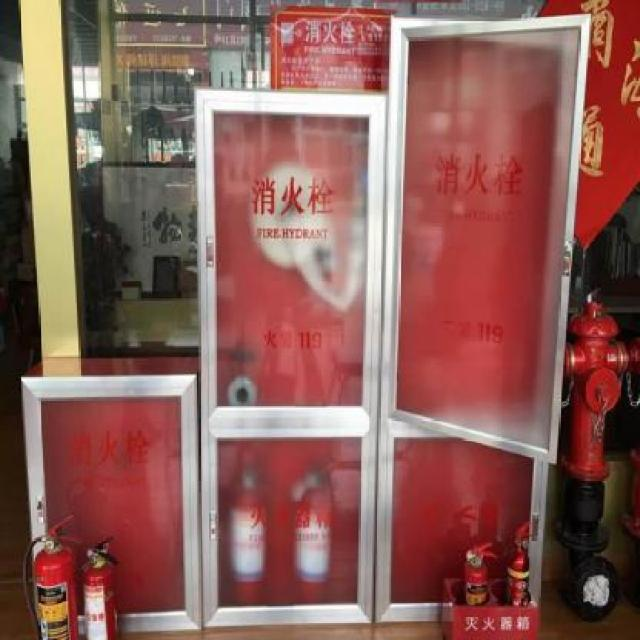firehydrant: (374, 12, 594, 640), (192, 83, 386, 630), (19, 352, 203, 638)
